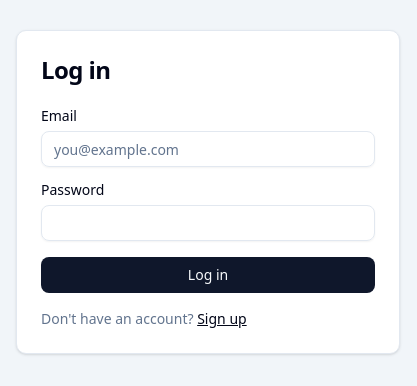
LoginPage › shows an inline error for a short password
The image size is (417, 386).
Type "user@example.com" into the field labelled "Email" at (208, 149), box [41,131,375,167]
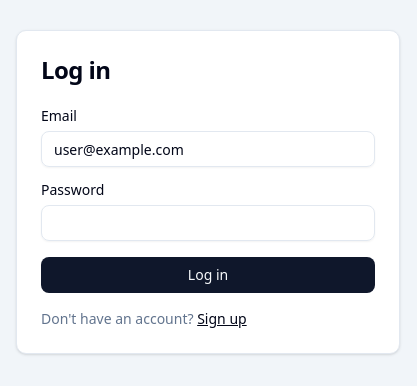
Type "short" into the password field labelled "Password" at (208, 223), box [41,205,375,241]
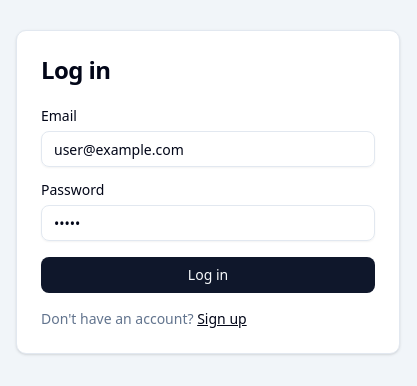
Click the button "Log in" at (208, 275), box [41,257,375,293]
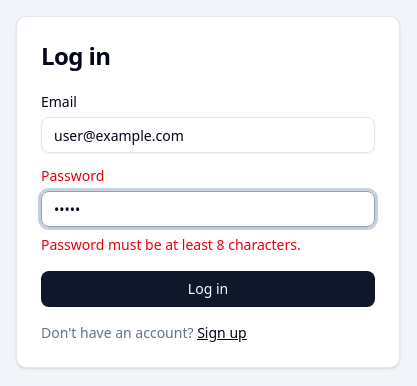
Result: the text "Password must be at least 8 characters." is shown at [41,235,301,254]
